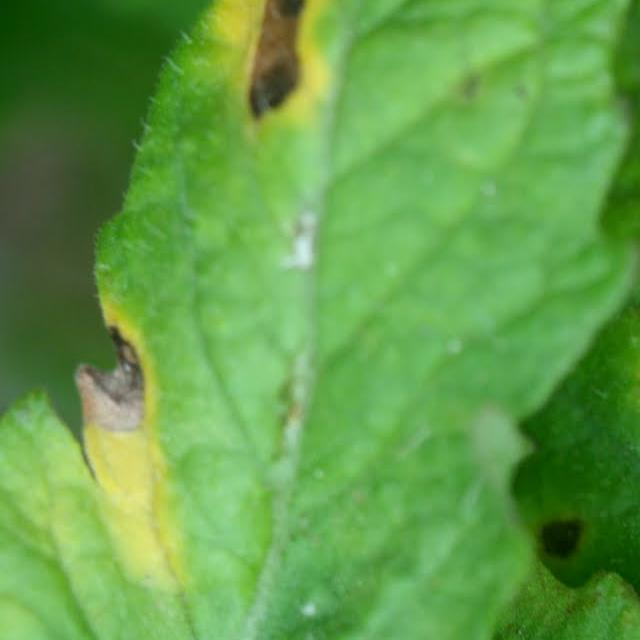Tomato leaf late blight: (0, 0, 640, 640), (452, 0, 640, 640)
